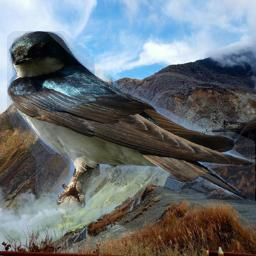Swallow: (7, 31, 255, 211)
